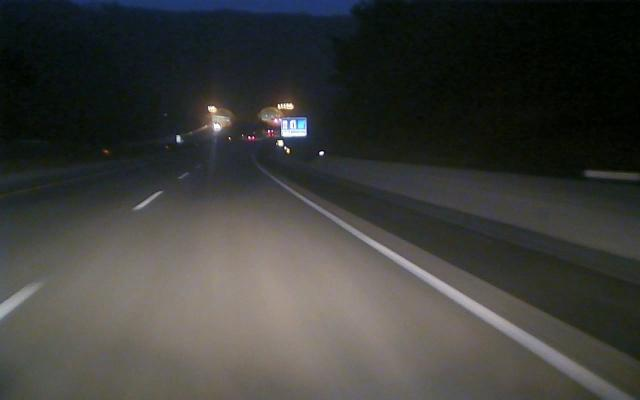lane: (282, 186, 639, 400), (0, 191, 165, 321)
